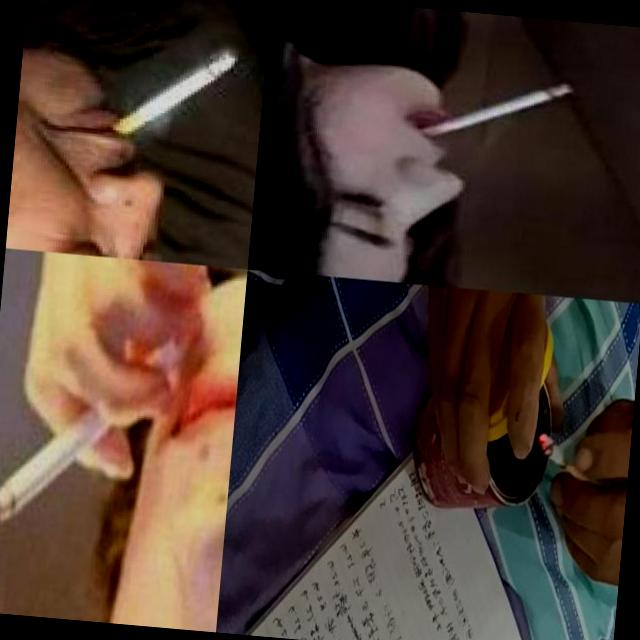cigarette: (0, 335, 163, 534), (90, 32, 248, 156), (392, 62, 591, 159), (534, 431, 598, 482)
